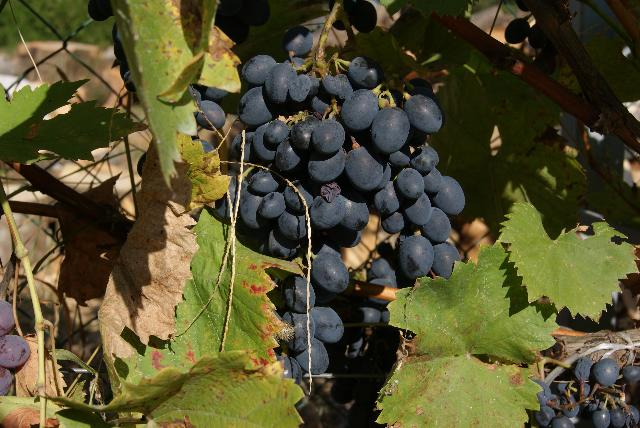grapes: (238, 56, 465, 374), (534, 358, 640, 428)
